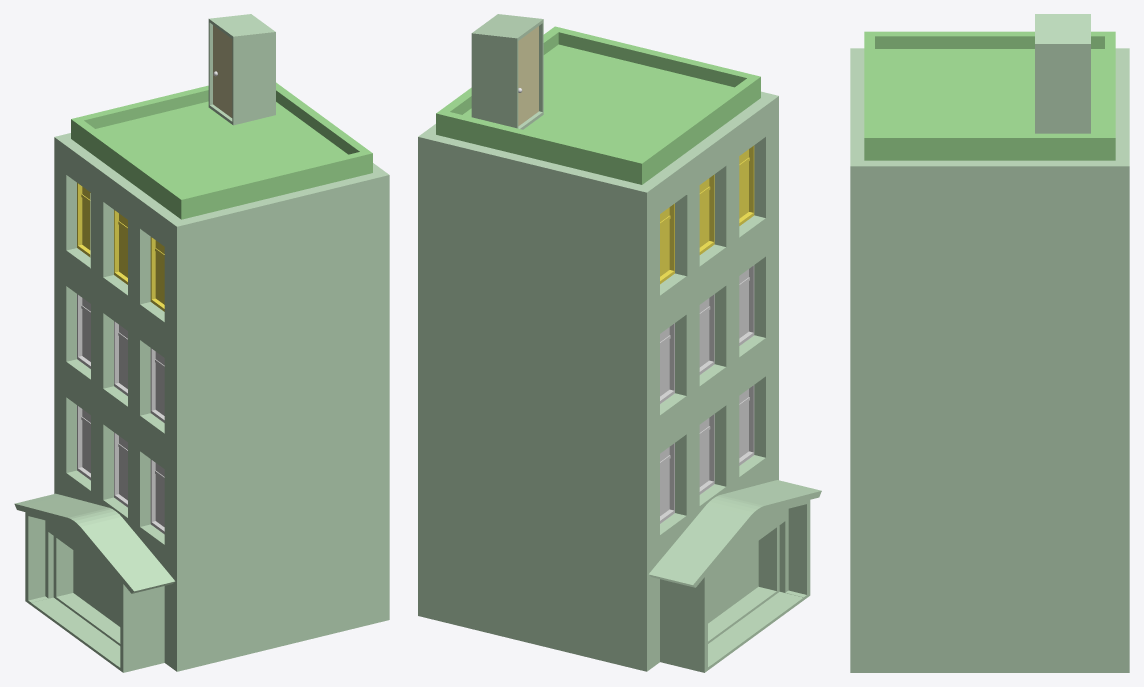
File: House.fbx
3 renders of one model, left to right at view 1: azimuth 30°, elevation 25°; view 2: azimuth 150°, elevation 25°; view 3: azimuth 270°, elevation 25°, orthographic. The views are drawn at different scales.
Parts seen in each view (by area): view 1: Cube, Cube.003, Cube.001, Cube.004, Windows, Windows.002, Windows.001, Cube.005; view 2: Cube, Cube.003, Cube.001, Cube.004, Windows.001, Windows, Windows.002, Cube.005; view 3: Cube, Cube.003, Cube.004.
Part boxes in pixels (<box>): Cube: <box>54,133,389,671</box>; Cube.003: <box>71,82,372,219</box>; Cube.001: <box>14,493,175,672</box>; Cube.004: <box>208,14,275,125</box>; Windows: <box>77,183,164,311</box>; Windows.002: <box>77,405,164,534</box>; Windows.001: <box>77,294,164,422</box>; Cube.005: <box>213,25,232,117</box>; Cube: <box>418,91,778,671</box>; Cube.003: <box>436,26,760,184</box>; Cube.001: <box>648,480,821,672</box>; Cube.004: <box>471,14,543,129</box>; Windows.001: <box>660,265,754,403</box>; Windows: <box>660,145,754,284</box>; Windows.002: <box>660,385,754,523</box>; Cube.005: <box>518,26,538,126</box>; Cube: <box>850,48,1129,672</box>; Cube.003: <box>864,31,1115,160</box>; Cube.004: <box>1035,14,1090,133</box>.
Bounding box in the file's own units: 597 × 1218 × 500.
